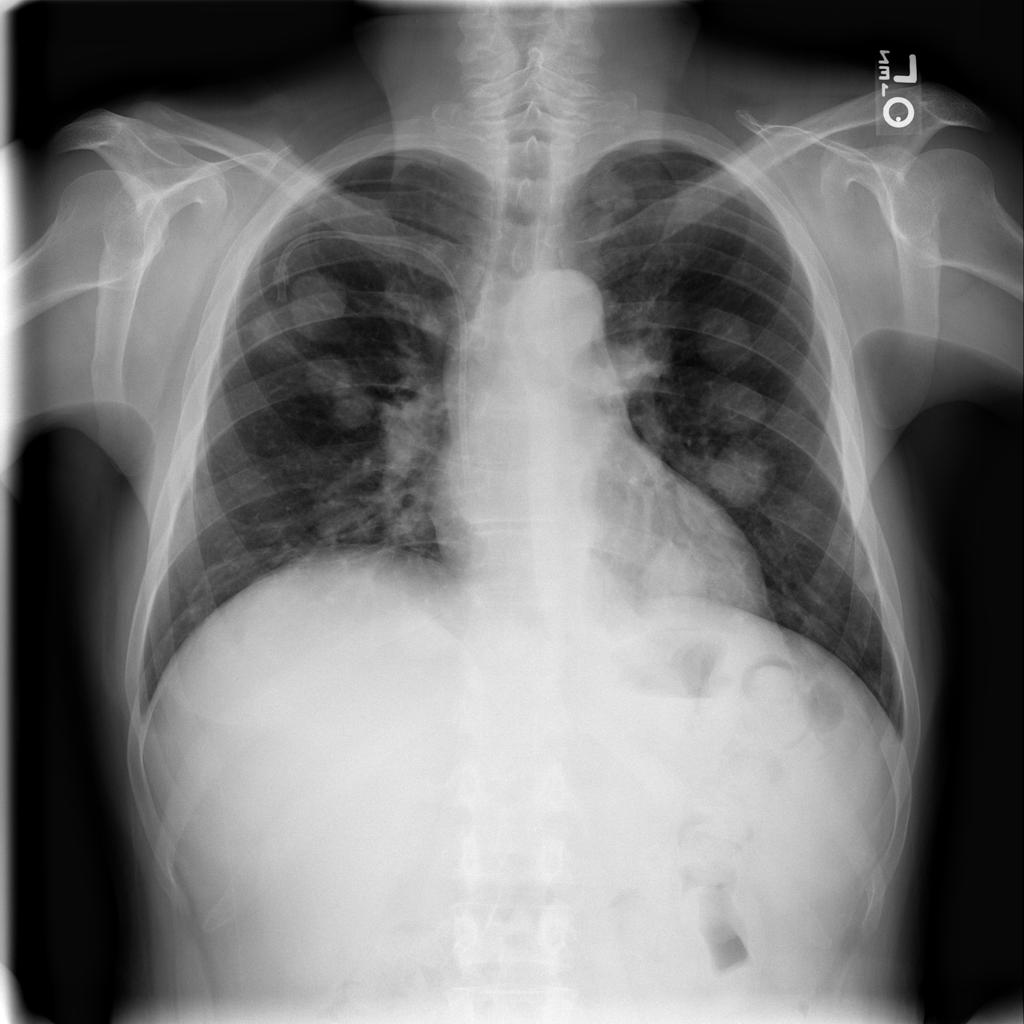nodule: (275, 265, 360, 345), (700, 437, 787, 514), (691, 367, 777, 442), (300, 354, 378, 434), (629, 539, 709, 616), (688, 300, 767, 377), (240, 297, 310, 374), (573, 162, 651, 226)
